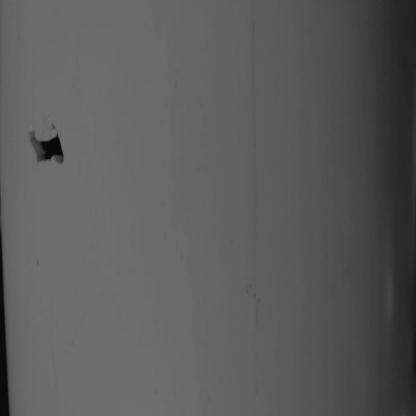kongdong: (18, 114, 71, 174)
